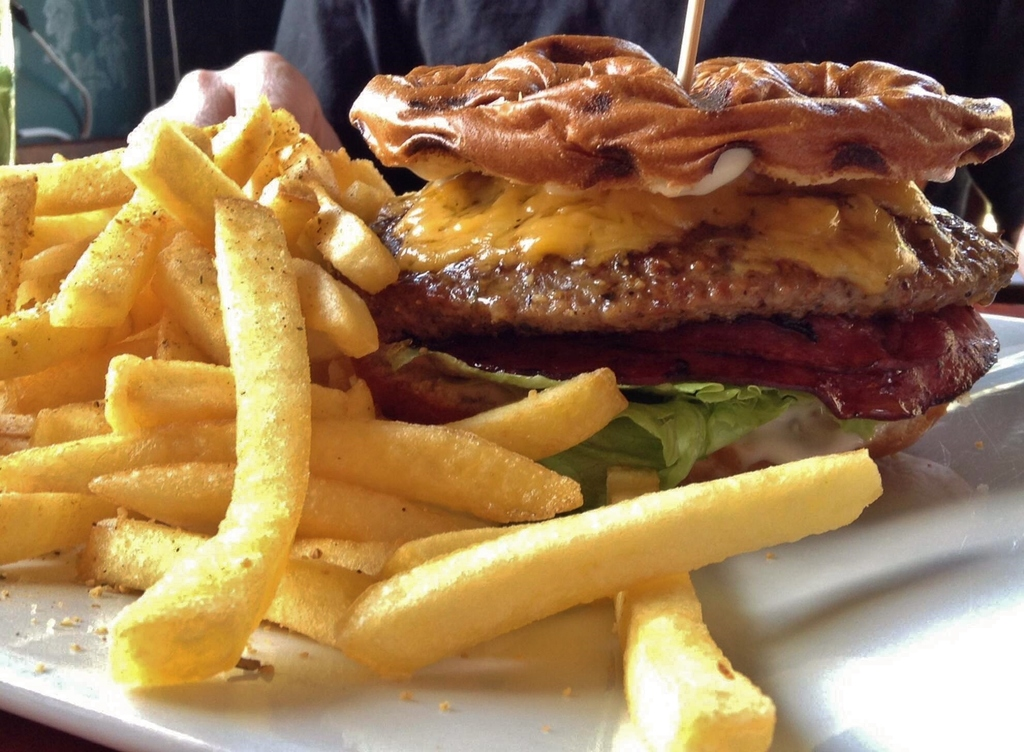French fries: (0, 83, 887, 751)
